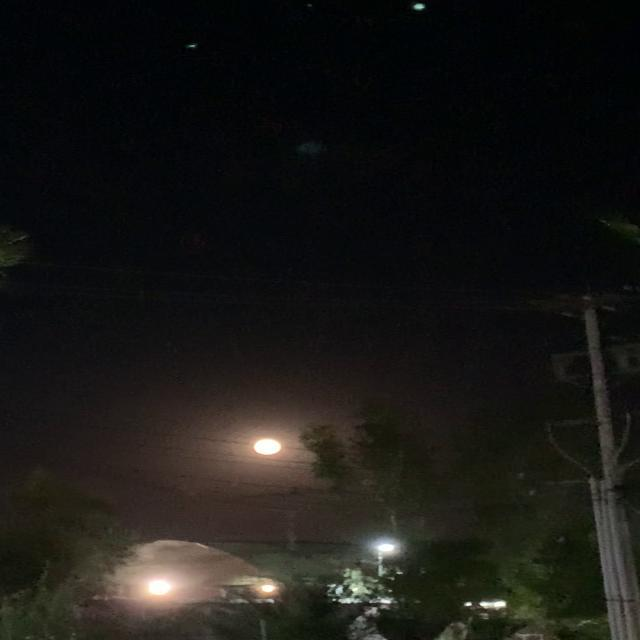moon: (248, 424, 301, 450)
